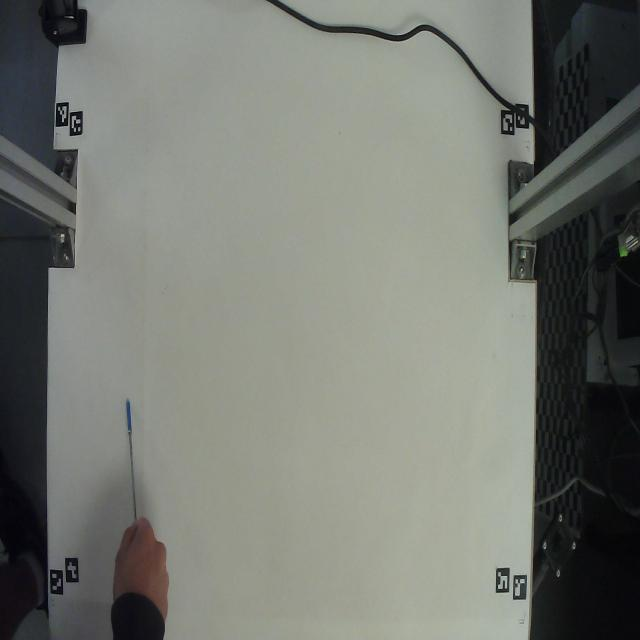Pres: (105, 377, 175, 528)
